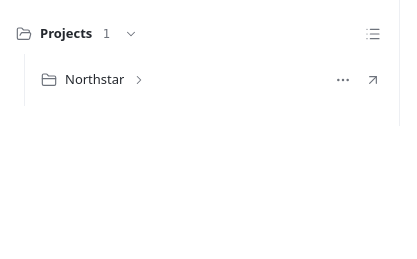
Sidebar › renders only the navigation actions supplied by each hierarchy level
The image size is (417, 259).
Expected: the link named "Go to Projects" is shown, [365,26,381,42]
Click the button "Northstar" at (95, 79), box [33,62,329,98]
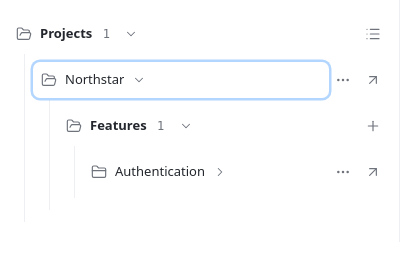
Result: the button named "Add feature to Northstar" is shown at [359,112,387,140]
Result: the button named "Open Authentication menu" is shown at [329,158,357,186]
Result: the link named "Go to Authentication" is shown at [365,164,381,180]
